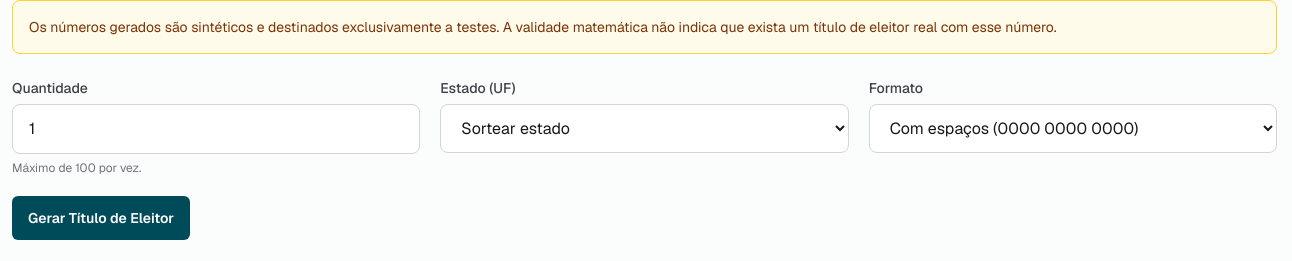
Test: VoterIdGeneratorTool › mostra erro quando a quantidade é maior que o limite
The width and height of the screenshot is (1292, 261).
Type "999" into the field labelled "Quantidade". click: (216, 129)
box: [12,104,420,154]
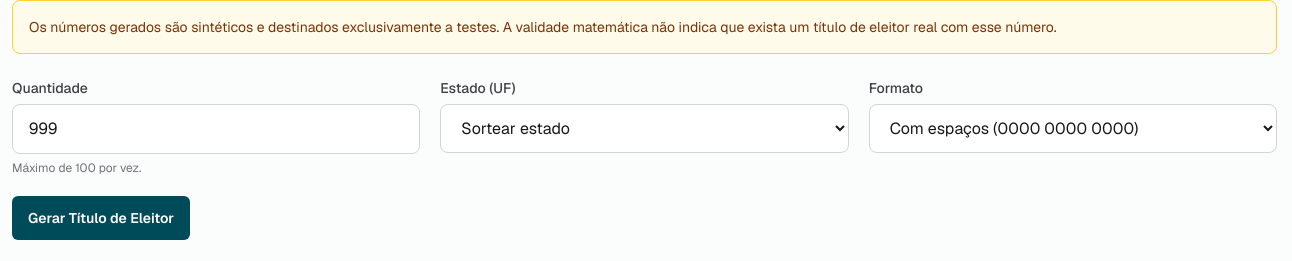
Click the button "Gerar Título de Eleitor". click: (101, 218)
box: [12,196,190,240]
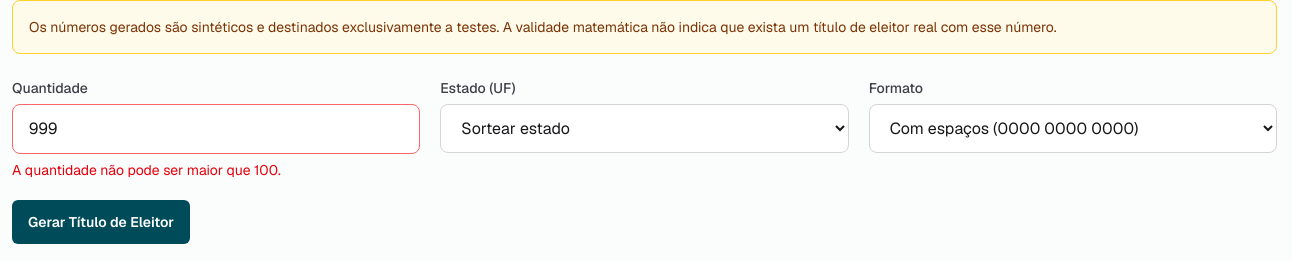
expect the text "A quantidade não pode ser maior que 100." is shown: met, box [12,161,281,179]
